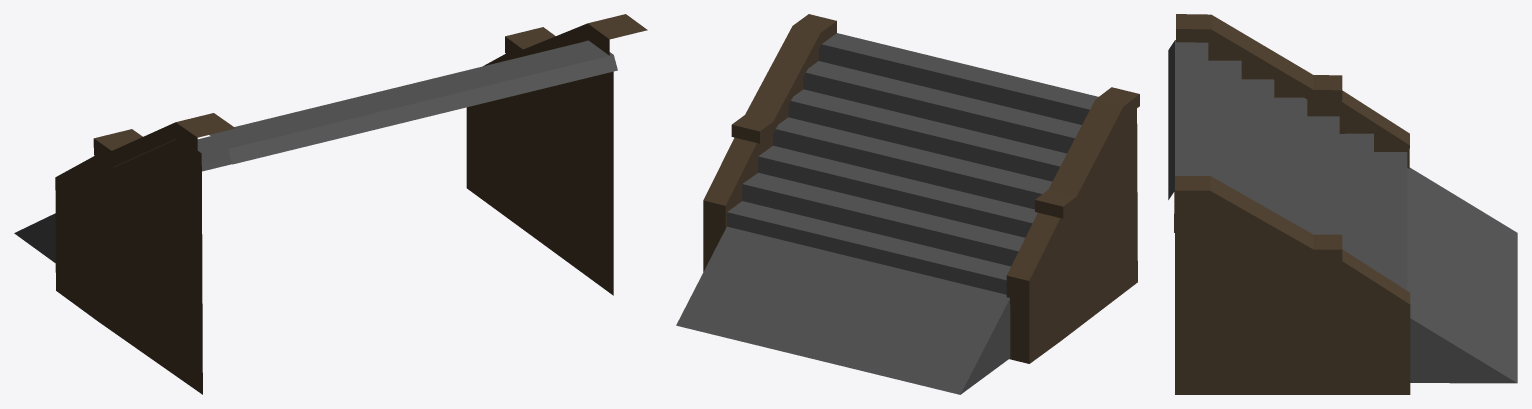
File: MainDoorStairs.glb
The picture shows the model from 3 angles, left to right: view 1: azimuth 30°, elevation 25°; view 2: azimuth 150°, elevation 25°; view 3: azimuth 270°, elevation 25°; orthographic projection. The views are drawn at different scales.
Parts seen in each view (by area): view 1: MainStairs; view 2: MainStairs; view 3: MainStairs.
Boxes of the visible parts, x1,y1,x2,y2 form: MainStairs: (14,14,647,394); MainStairs: (676,14,1139,394); MainStairs: (1168,14,1517,394).
Bounding box in the file's own units: 5.04 × 2.79 × 4.24.
Materials: 1 (1 with a texture image).
